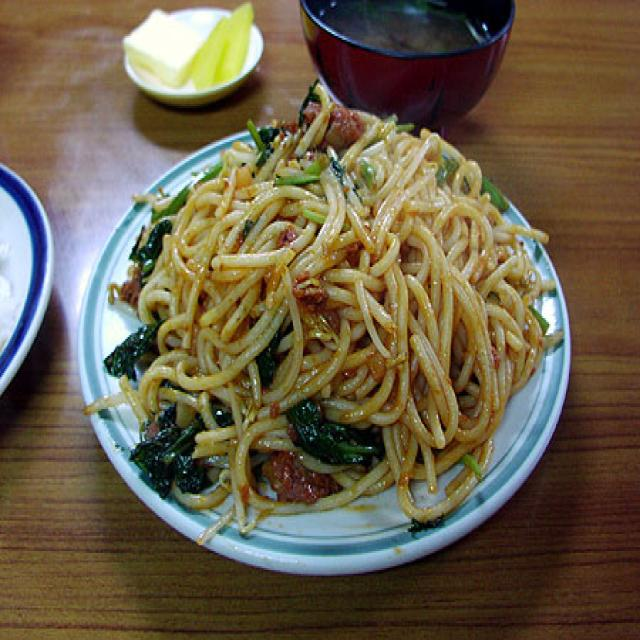面条主食: (102, 102, 534, 570)
